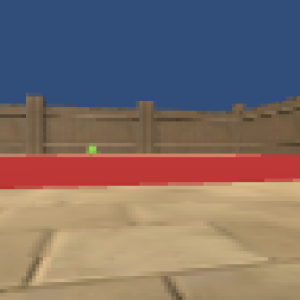deathZone: (2, 155, 300, 190)
goodGoal: (85, 143, 98, 155)
